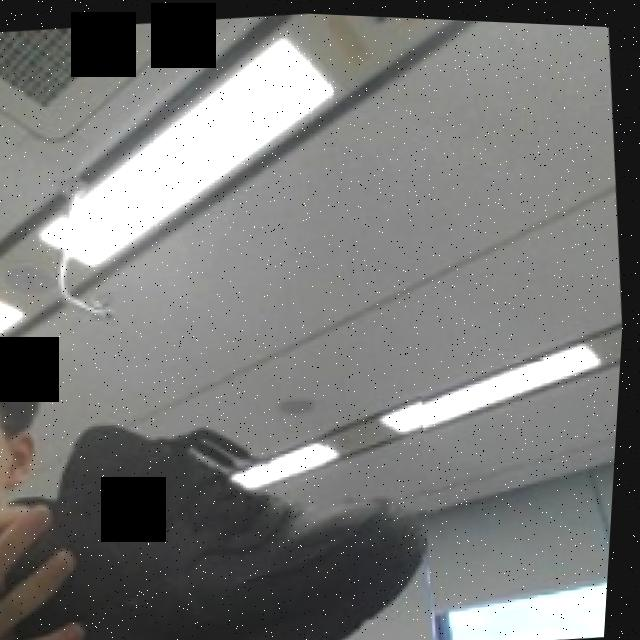shoe: (0, 373, 452, 640)
